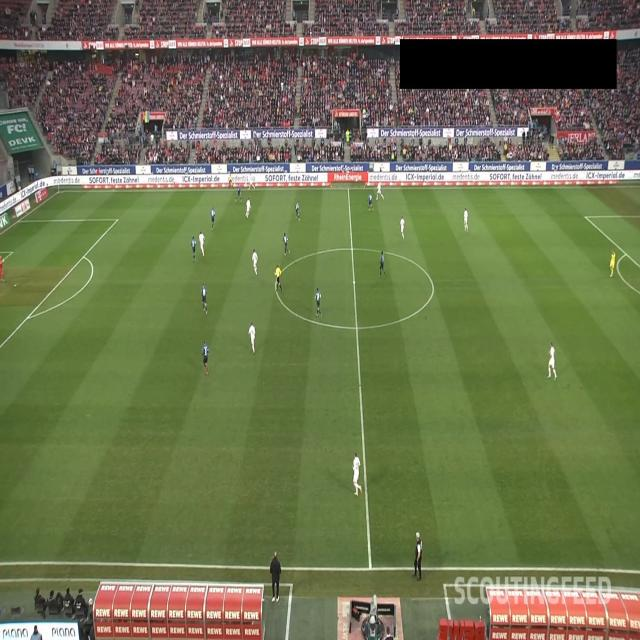ball: (375, 197, 378, 201)
